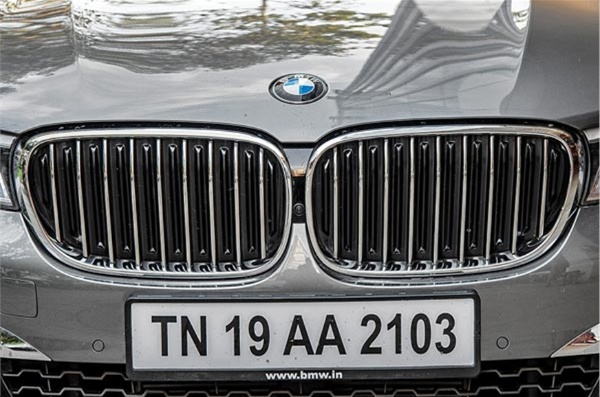licence: (126, 296, 478, 374)
